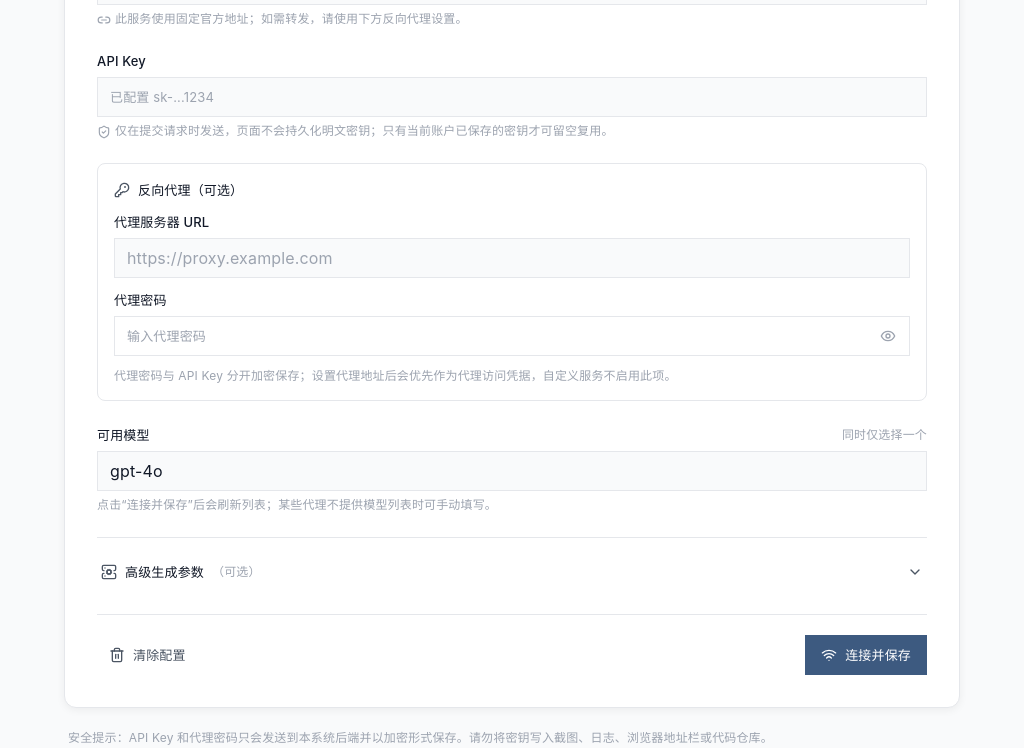
Scenario: AiConfig › requires acknowledgement before showing editable advanced parameters
This screenshot has width=1024, height=748.
(page scrolled)
Step 1. Click the button "高级生成参数 （可选）" → (164, 572), box x1=97 y1=554 x2=927 y2=590
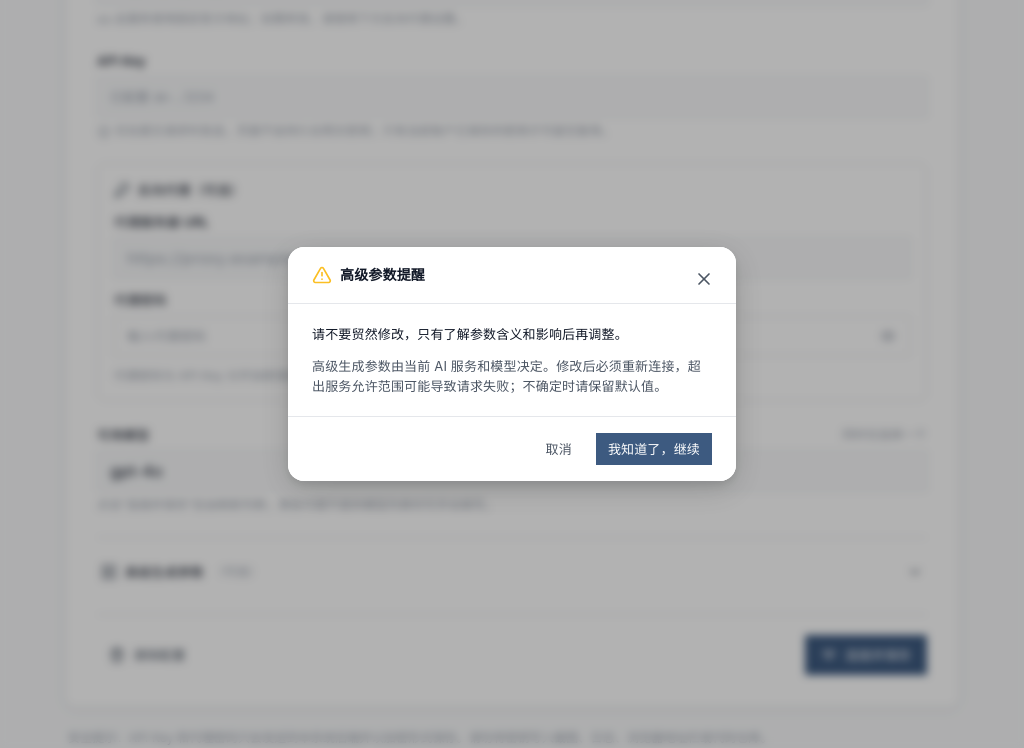
Check: the field labelled "温度" is not shown
Check: the dialog shows "请不要贸然修改，只有了解参数含义和影响后再调整", box x1=312 y1=326 x2=628 y2=342
Step 2. Click the button "我知道了，继续" → (654, 449), box x1=596 y1=433 x2=712 y2=465
(page scrolled)
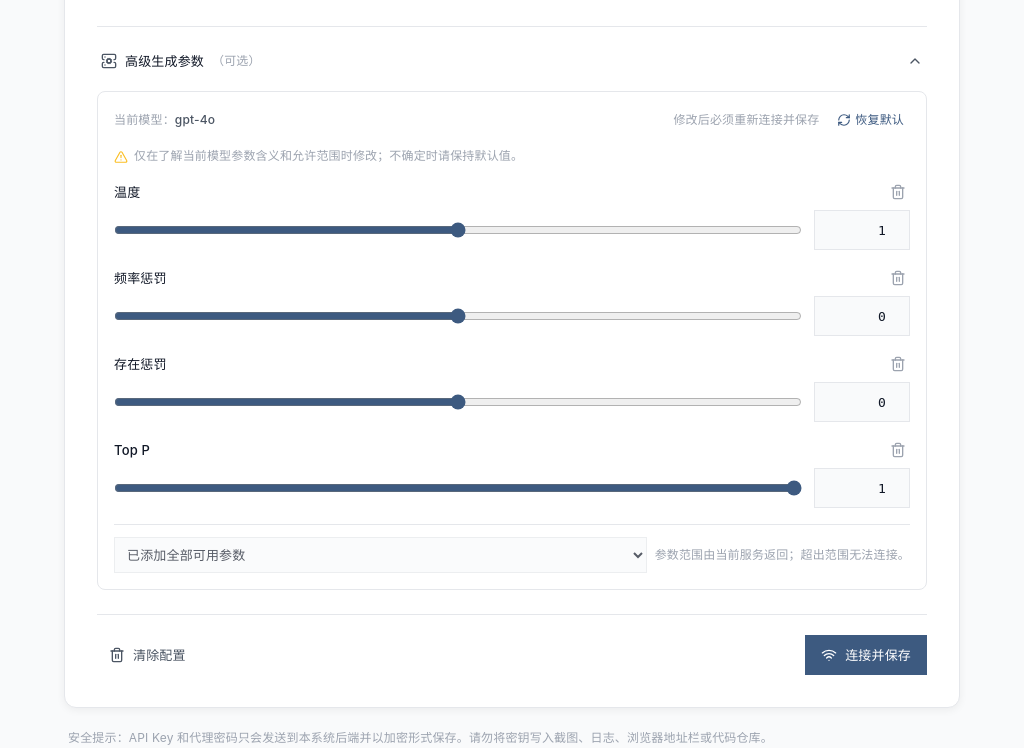
Check: the text "仅在了解当前模型参数含义和允许范围时修改；不确定时请保持默认值。" is shown, box x1=114 y1=148 x2=523 y2=164
Check: the number field labelled "温度" holds "1", box x1=814 y1=210 x2=910 y2=250
Check: the number field labelled "频率惩罚" holds "0", box x1=814 y1=296 x2=910 y2=336
